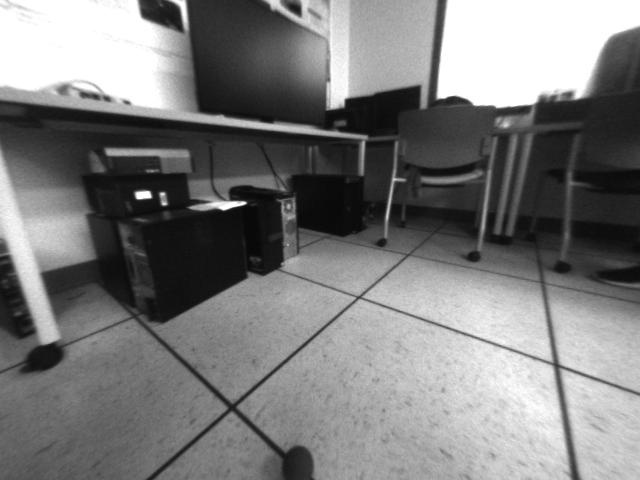dogtoy: (268, 435, 323, 480)
